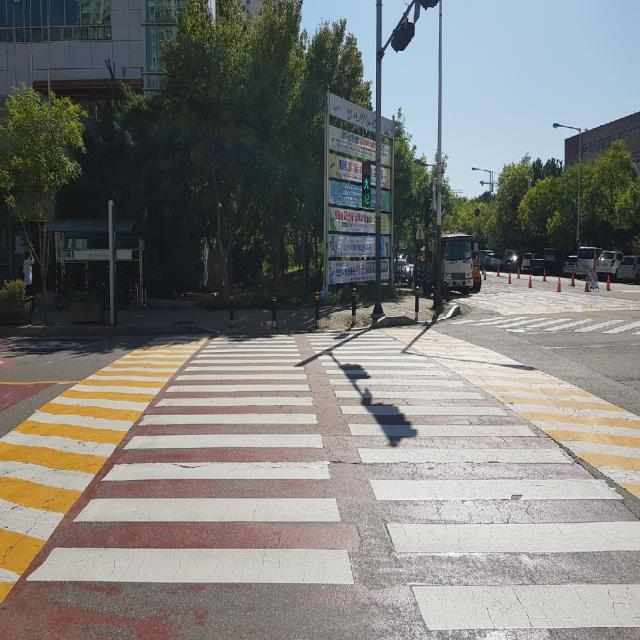빨간불: (362, 160, 371, 208)
횡단보도: (23, 336, 639, 640)
